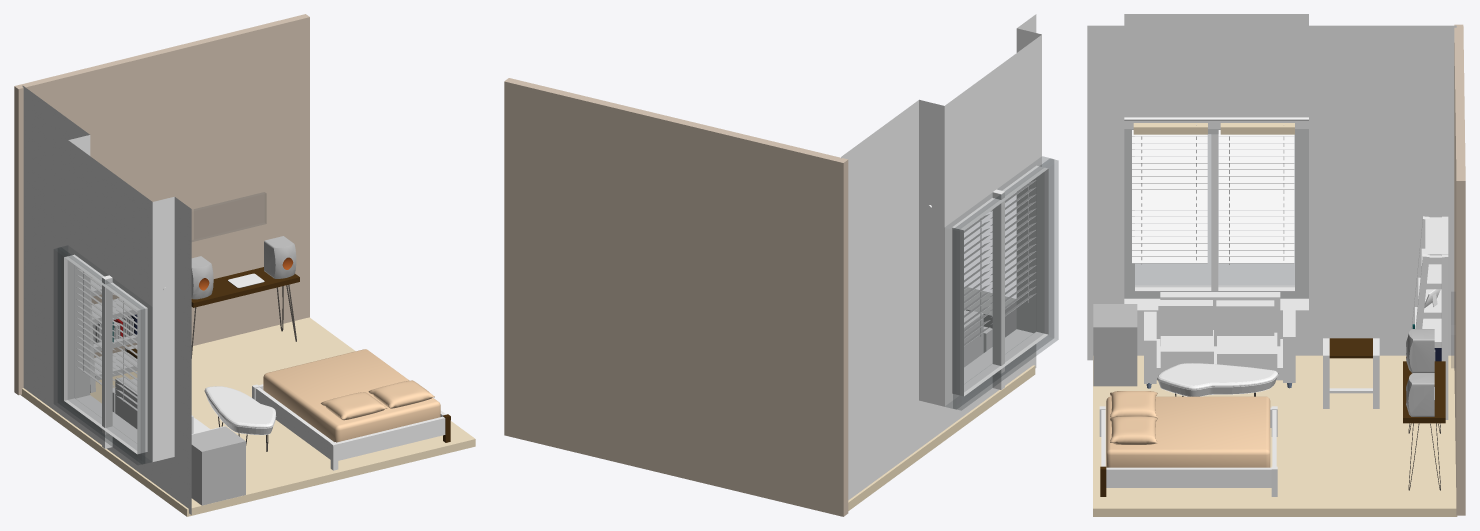
Rendered from tonyapt.obj.
The picture shows the model from 3 angles, left to right: view 1: azimuth 30°, elevation 25°; view 2: azimuth 150°, elevation 25°; view 3: azimuth 270°, elevation 25°; orthographic projection. The views are drawn at different scales.
Parts seen in each view (by area): view 1: right_wall, base, floor, windowpane, mattress, Cube_21, Box_end_table, windowframe, Gallerywrap, Extrude_NURBS.1, head_box, Window_divider (+8 smaller); view 2: right_wall, base, windowpane, Cube_21, windowframe, Window_divider, floor, Box_end_table, Cube.3_2; view 3: base, floor, mattress, right_wall, windowpane, Box_end_table, right_box, Extrude_NURBS.1, windowframe, Cube_2, Cube_5, Cube.1_3 (+59 smaller).
Boxes of the visible parts, left/top/right/bottom form: right_wall: left=14, top=14, right=309, bottom=395; base: left=22, top=85, right=191, bottom=514; floor: left=21, top=317, right=475, bottom=516; windowpane: left=54, top=247, right=144, bottom=464; mattress: left=263, top=349, right=440, bottom=442; Cube_21: left=64, top=254, right=147, bottom=454; Box_end_table: left=191, top=426, right=245, bottom=505; windowframe: left=58, top=245, right=151, bottom=464; Gallerywrap: left=192, top=192, right=266, bottom=241; Extrude_NURBS.1: left=204, top=386, right=276, bottom=435; head_box: left=337, top=416, right=445, bottom=460; Window_divider: left=102, top=275, right=112, bottom=448; right_wall: left=504, top=78, right=848, bottom=516; base: left=841, top=14, right=1041, bottom=500; windowpane: left=953, top=159, right=1058, bottom=410; Cube_21: left=952, top=165, right=1048, bottom=396; windowframe: left=944, top=156, right=1053, bottom=409; Window_divider: left=992, top=189, right=1004, bottom=389; floor: left=848, top=365, right=1035, bottom=510; Box_end_table: left=964, top=287, right=1016, bottom=337; Cube.3_2: left=964, top=311, right=983, bottom=367; base: left=1087, top=14, right=1456, bottom=360; floor: left=1093, top=355, right=1457, bottom=516; mattress: left=1106, top=396, right=1270, bottom=467; right_wall: left=1454, top=24, right=1465, bottom=515; windowpane: left=1135, top=134, right=1294, bottom=286; Box_end_table: left=1093, top=304, right=1137, bottom=386; right_box: left=1106, top=467, right=1271, bottom=487; Extrude_NURBS.1: left=1157, top=363, right=1278, bottom=396; windowframe: left=1125, top=129, right=1308, bottom=297; Cube_2: left=1408, top=329, right=1434, bottom=416; Cube_5: left=1216, top=300, right=1274, bottom=335; Cube.1_3: left=1158, top=300, right=1212, bottom=335.
Bounding box in the file's own units: 443 × 404 × 410.
